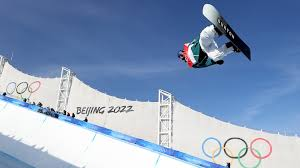snowboard: (200, 3, 254, 61)
